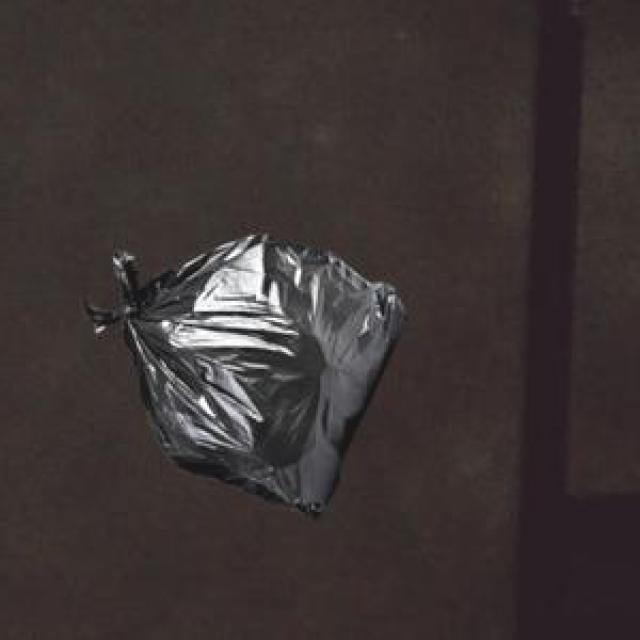Trashbag: (74, 228, 411, 524)
